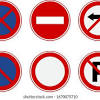No entry: (30, 2, 70, 41)
